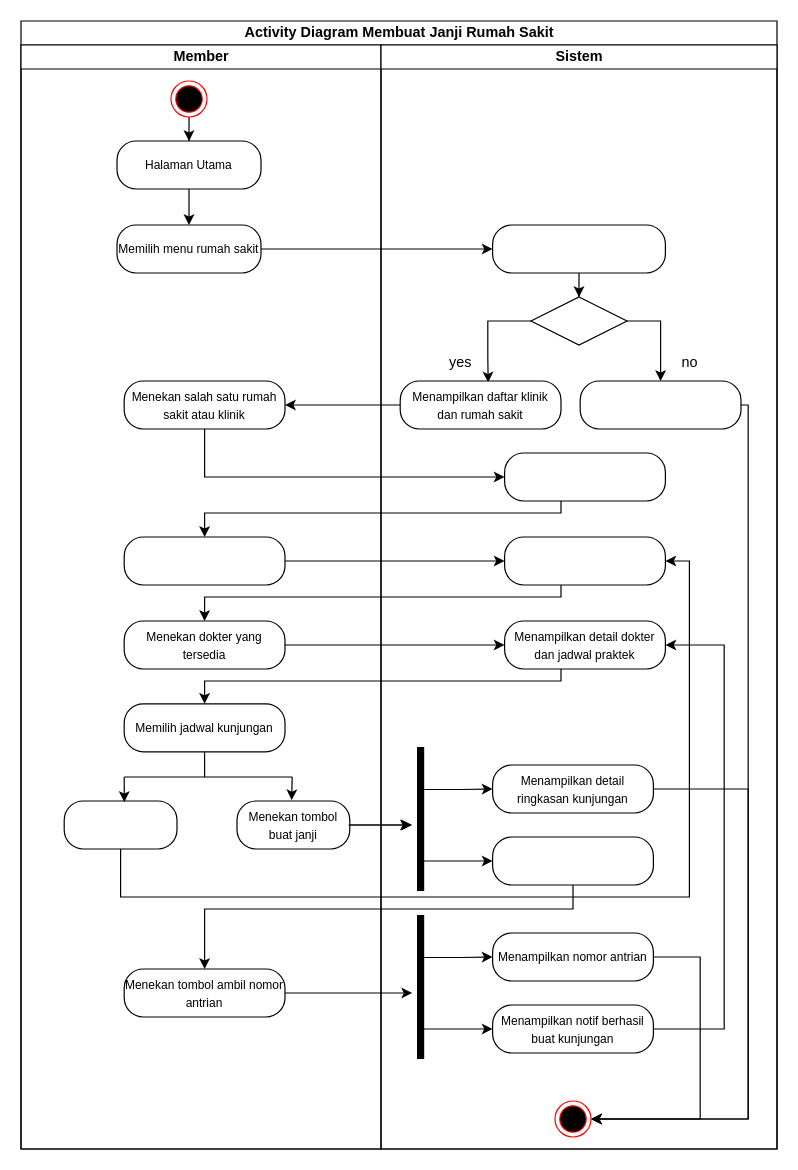
This 798x1170 diagram has some shape labels left out. The centre of each missing label's shape, as x and y in pixels:
"Condition" belongs at [578,320].
"Daftar apotek dan rumah sakit tidak tampil" belongs at [660,404].
"Menampilkan daftar dokter" belongs at [584,560].
"Menampilkan detail rumah sakit atau klinik" belongs at [584,476].
"Menampilkan pertanyaan izin mengakses lokasi" belongs at [578,248].
"Menampilkan tombol ambil nomor antrian" belongs at [572,860].
"Menekan salah satu daftar spesialis" belongs at [204,560].
"Menekan tombol back" belongs at [120,824].
